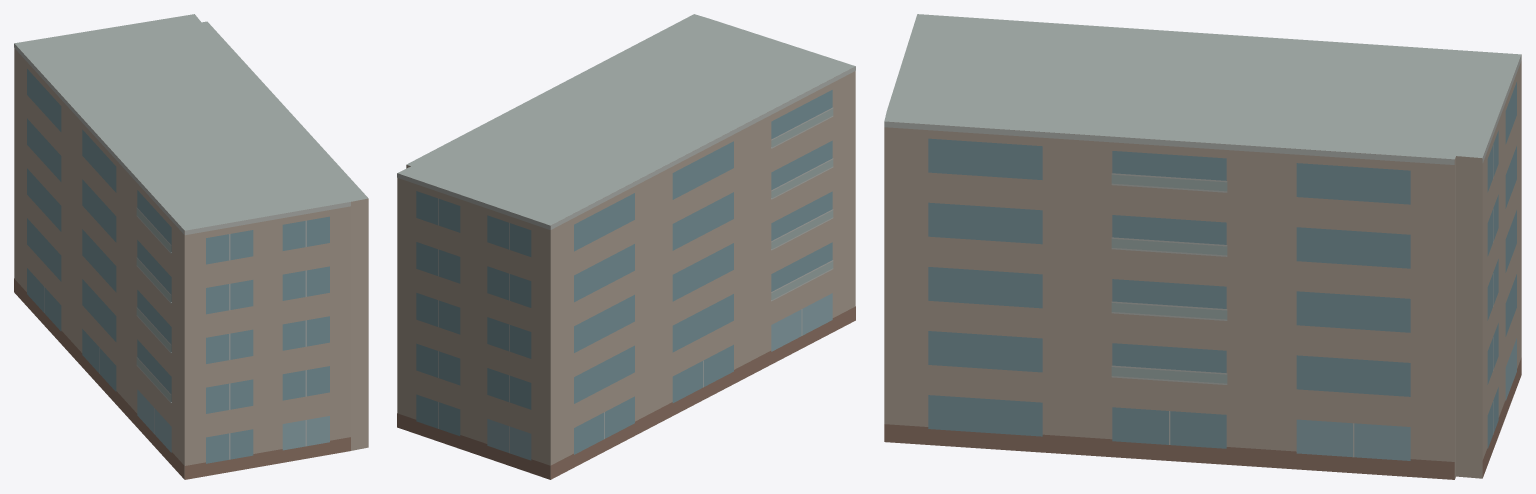
Rendered from survey-upis-32494322.glb.
3 renders of one model, left to right at view 1: azimuth 30°, elevation 25°; view 2: azimuth 150°, elevation 25°; view 3: azimuth 270°, elevation 25°, orthographic. The views are drawn at different scales.
Parts seen in each view (by area): view 1: survey-upis-32494322.tmp; view 2: survey-upis-32494322.tmp; view 3: survey-upis-32494322.tmp.
Part boxes in pixels (x1,y1,x2,y2): survey-upis-32494322.tmp: [14, 14, 368, 479]; survey-upis-32494322.tmp: [397, 14, 855, 479]; survey-upis-32494322.tmp: [884, 14, 1521, 479].
Bounding box in the file's own units: 13.18 × 13.54 × 24.4.
